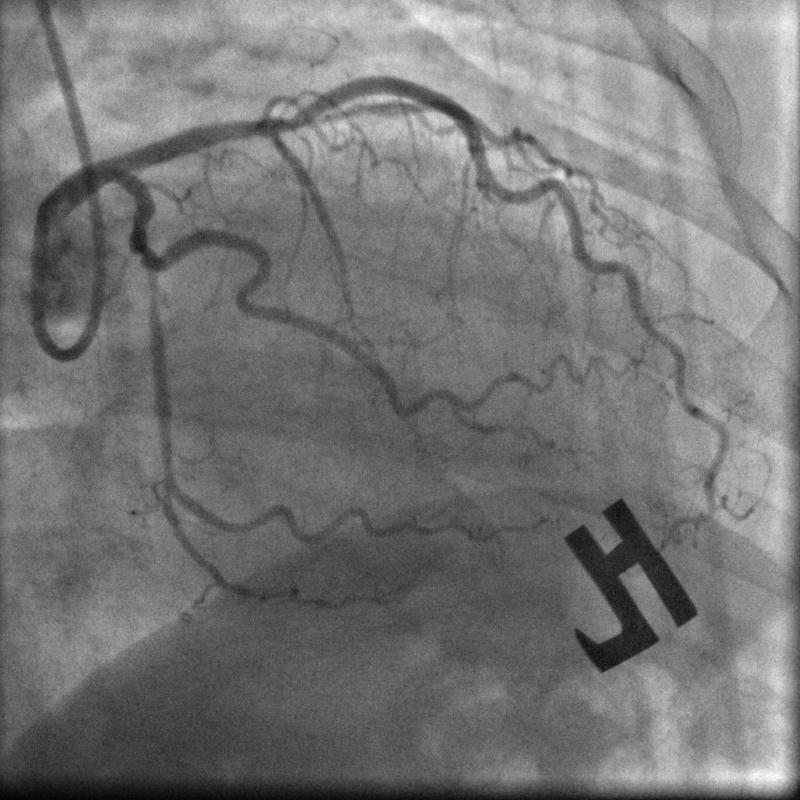Stenosis: (128, 205, 172, 272)
